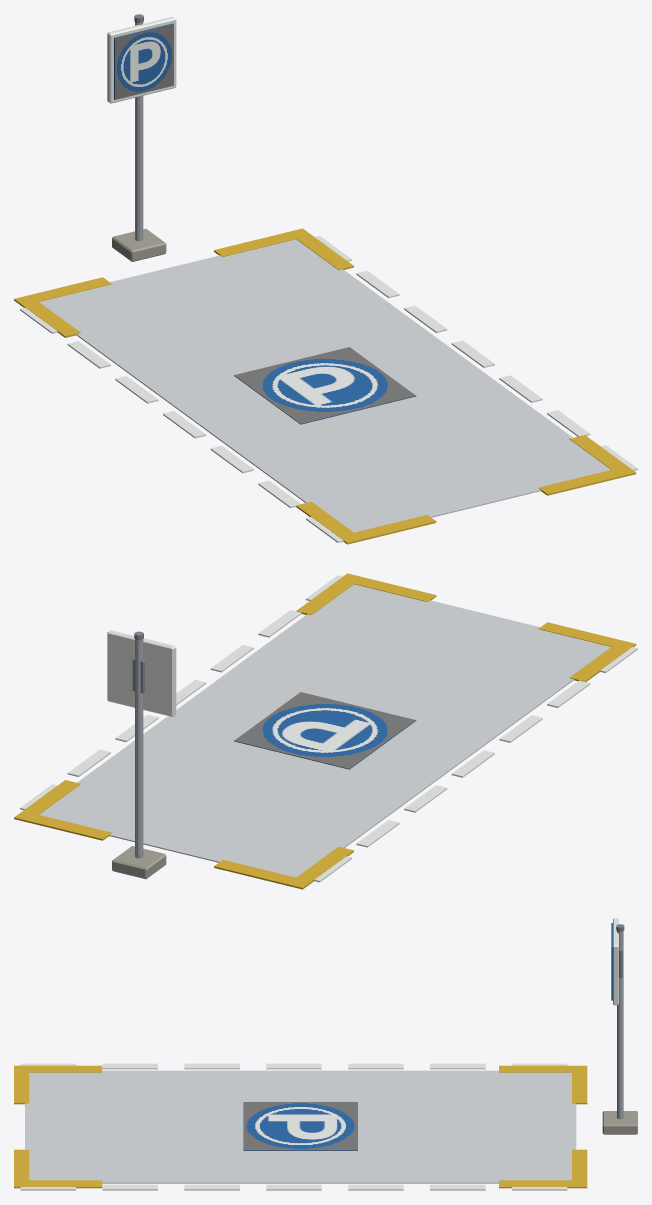
Rendered from Vaga.fbx.
3 renders of one model, top to bottom at view 1: azimuth 30°, elevation 25°; view 2: azimuth 150°, elevation 25°; view 3: azimuth 270°, elevation 25°, orthographic. The views are drawn at different scales.
Visible parts, largest first — view 1: Vaga, Placa, LinhaEsq, Poste, LinhaDir; view 2: Vaga, Placa, Poste, LinhaEsq, LinhaDir; view 3: Vaga, LinhaDir, LinhaEsq, Poste, Placa.
Boxes of the visible parts, x1,y1,x2,y2 form: Vaga: (14,228,636,544); Placa: (107,16,176,103); LinhaEsq: (20,307,343,542); Poste: (112,14,166,261); LinhaDir: (315,236,637,470); Vaga: (14,573,636,889); Placa: (107,630,176,716); Poste: (112,631,166,879); LinhaEsq: (314,647,637,882); LinhaDir: (20,575,342,810); Vaga: (14,1065,587,1188); LinhaDir: (20,1184,567,1190); LinhaEsq: (20,1063,567,1069); Poste: (602,924,637,1134); Placa: (611,918,622,1005).
Bounding box in the file's own units: 2.7 × 2.02 × 5.66.
1 material, 1 textured.
